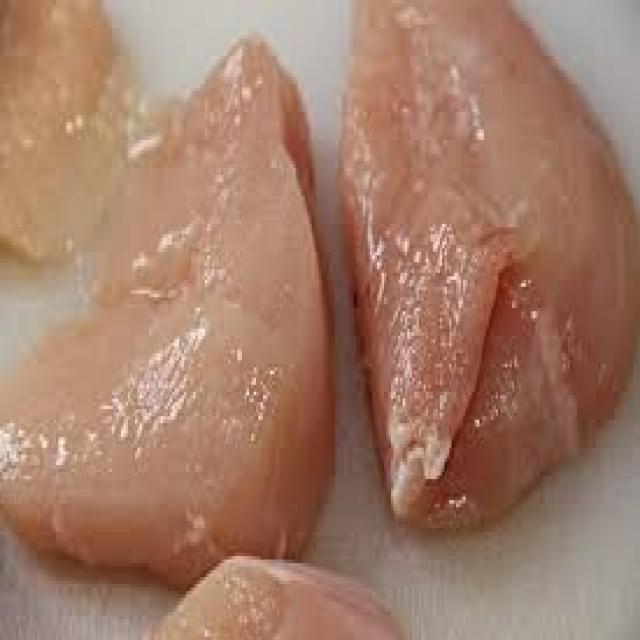chicken: (0, 37, 334, 570), (335, 0, 640, 543)
